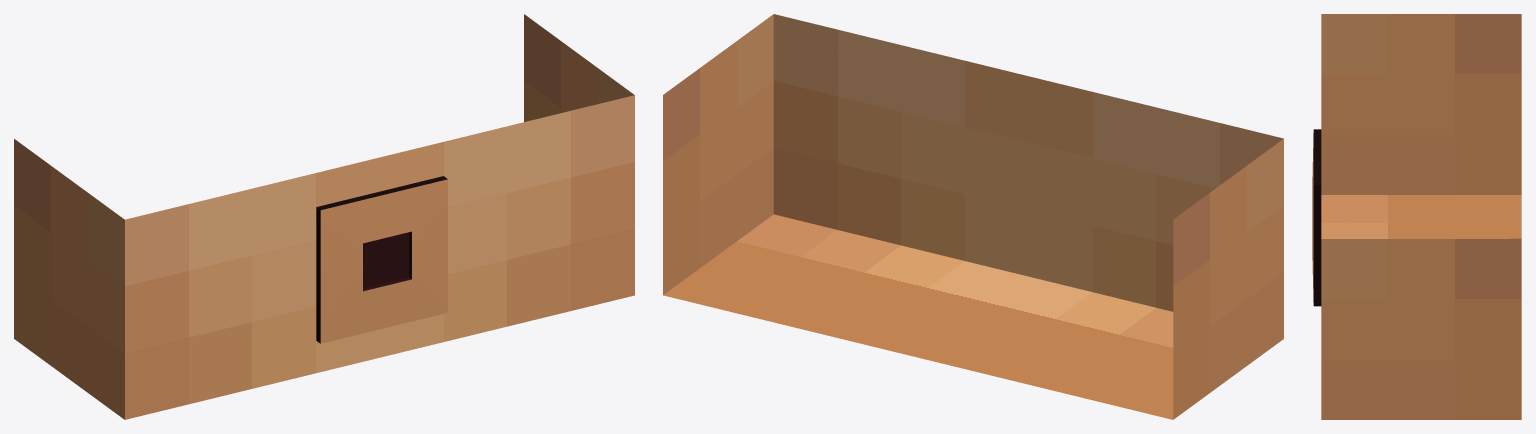
The model's file is skM1_jesse_mouthU.glb.
3 views of the same model, side by side, from view 1: azimuth 30°, elevation 25°; view 2: azimuth 150°, elevation 25°; view 3: azimuth 270°, elevation 25° (orthographic). The views are drawn at different scales.
Parts seen in each view (by area): view 1: skM1_jesse; view 2: skM1_jesse; view 3: skM1_jesse.
Boxes of the visible parts, box(x1,y1,x2,y2) form: skM1_jesse: box(14, 14, 634, 419); skM1_jesse: box(663, 14, 1283, 419); skM1_jesse: box(1312, 14, 1521, 419).
Size of the model in its own units: 0.5012 by 0.1883 by 0.1972.
Materials: 1 (1 with a texture image).
